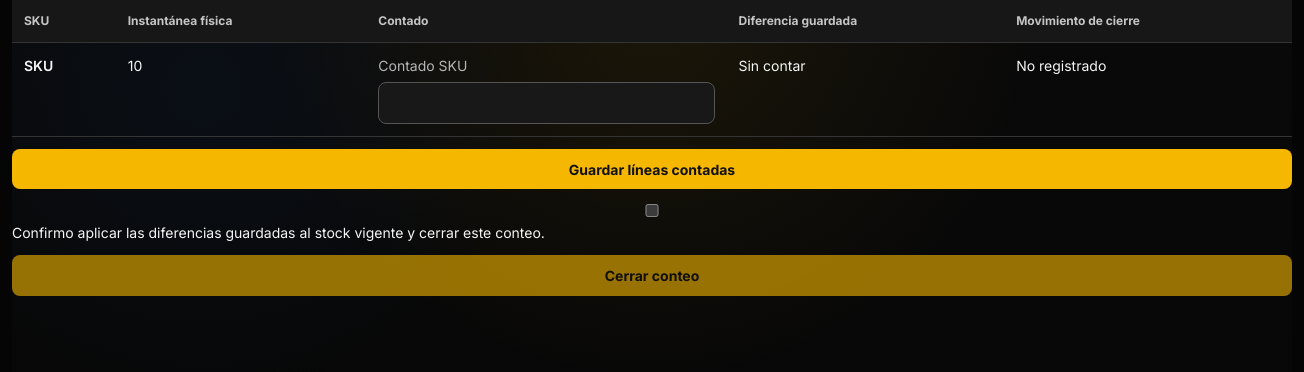
Test: inventory operation uncertainty and authorization boundaries › requires a counted integer instead of coercing an empty value into zero
Click the button "Guardar líneas contadas" at (652, 169), box [12,149,1292,189]
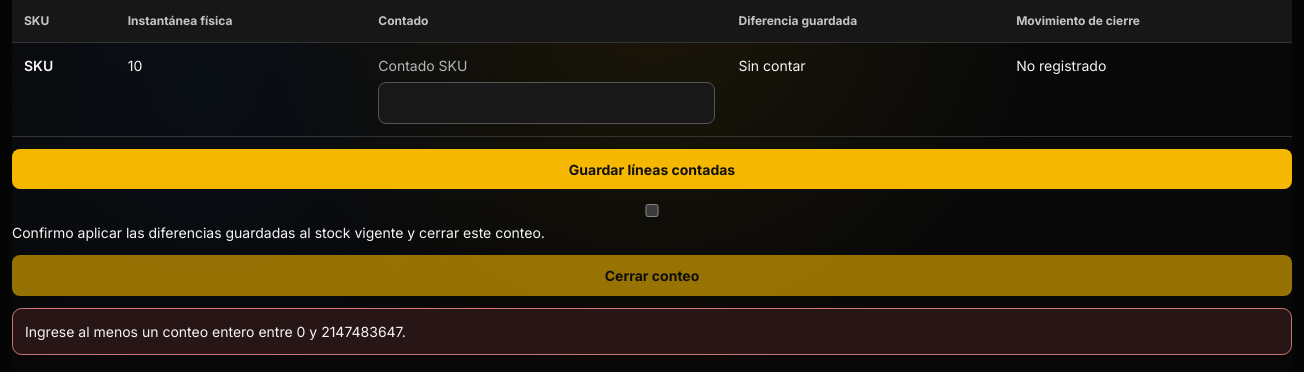
Expected: the message shows "al menos un conteo", [25,323,406,340]
